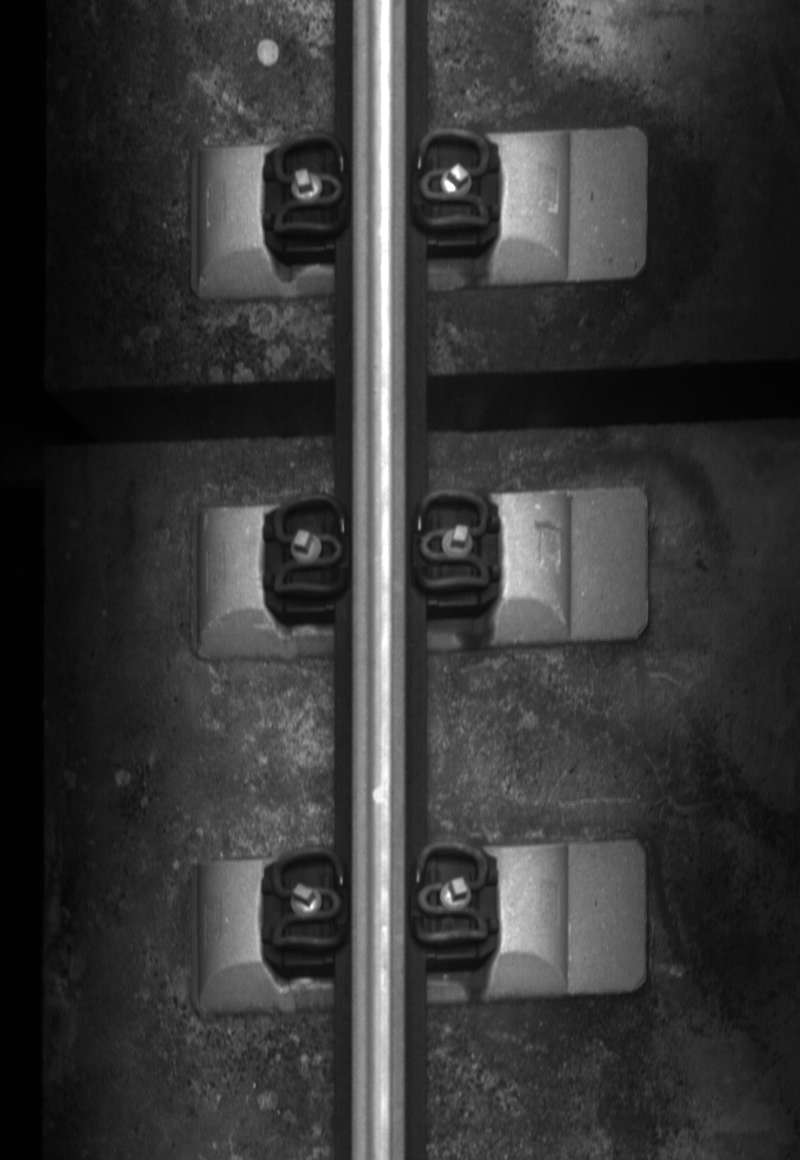l_faster: (267, 129, 350, 246), (269, 488, 350, 604), (268, 842, 350, 956)
r_faster: (409, 480, 493, 601), (411, 123, 496, 241), (409, 838, 491, 953)
